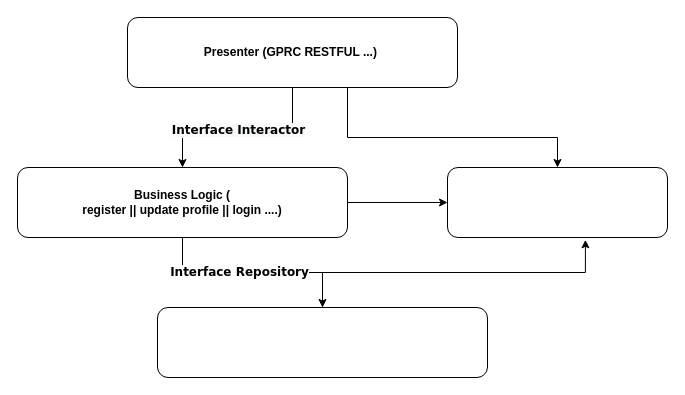
Some shapes in this 685 by 395 pixel diagram are drawn without their labels. Each missing label, with the centre of its shape:
"Entities (USER | BALANCE | TRANSATION...)" goes at point 557,202.
"infrastructures (MONGO | RABBIT | REDIS ... )" goes at point 322,342.
